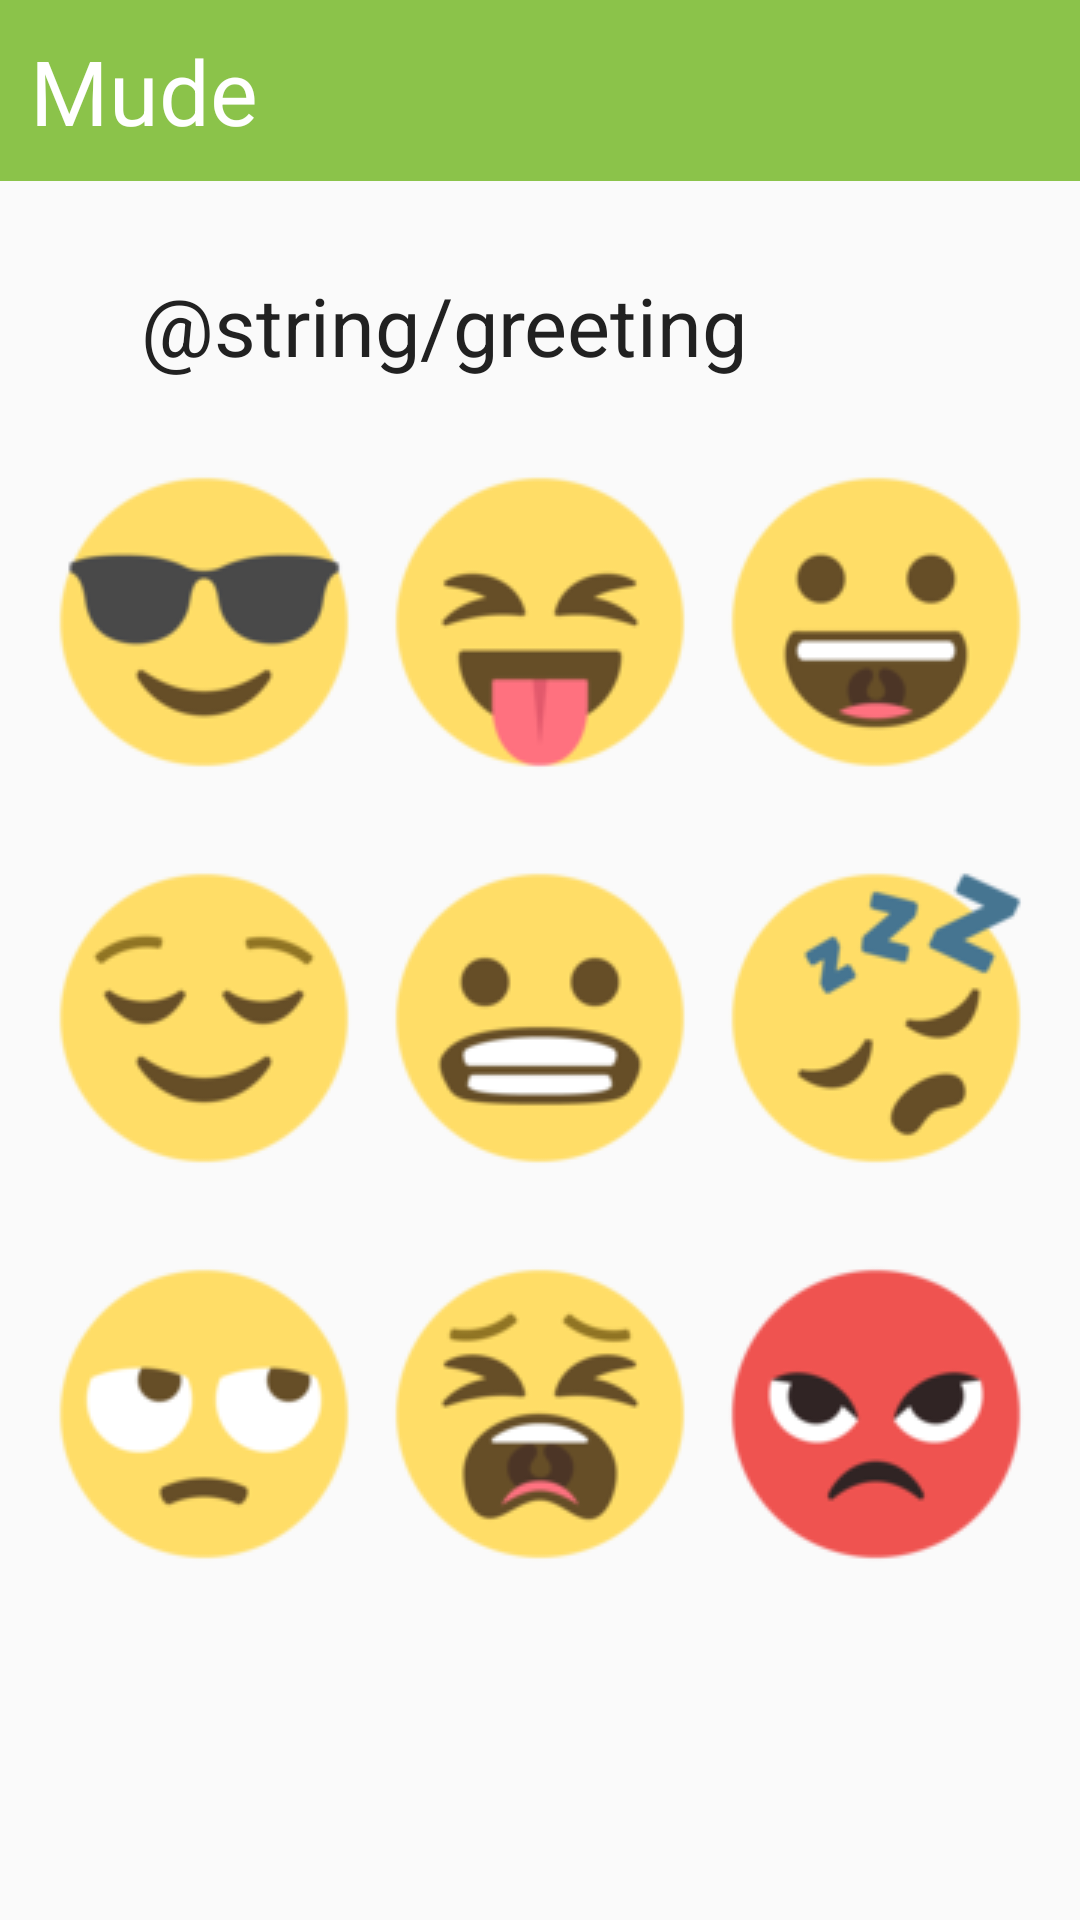

Where icons sit on this 1080 × 1920 app screen, as Rect(x1, y1, x2, y2):
angry: Rect(731, 1269, 1021, 1559)
annoyed: Rect(59, 1269, 349, 1559)
cheeky: Rect(395, 477, 685, 767)
cool: Rect(59, 477, 349, 767)
disaster: Rect(395, 1269, 685, 1559)
mellow: Rect(59, 873, 349, 1163)
tired: Rect(731, 873, 1021, 1163)
